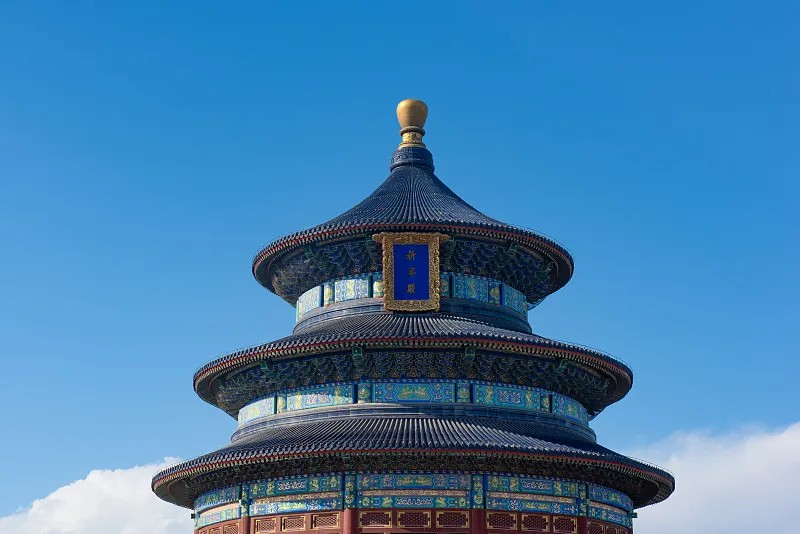Heaven: (152, 99, 676, 534)
